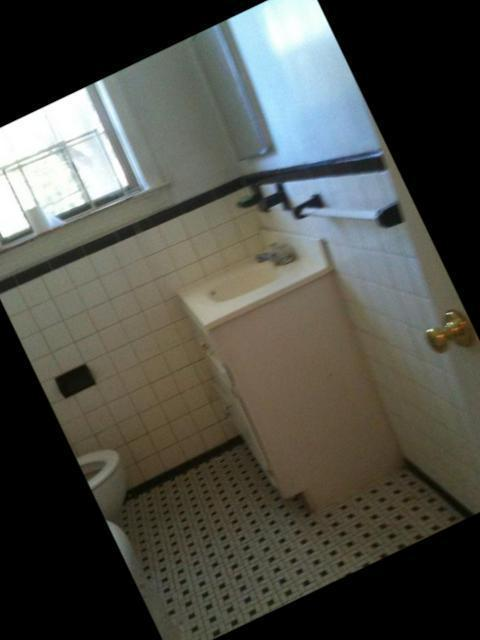Lavamanos: (189, 228, 311, 320)
